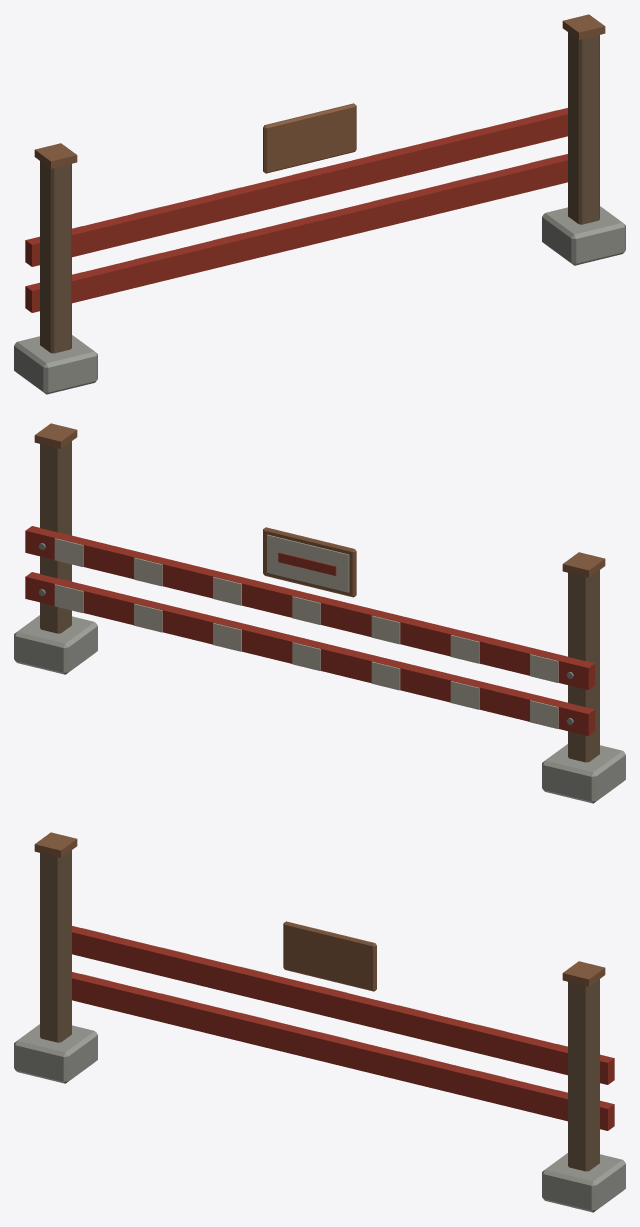
Rendered from roadblock.glb.
3 renders of one model, top to bottom at view 1: azimuth 30°, elevation 25°; view 2: azimuth 150°, elevation 25°; view 3: azimuth 330°, elevation 25°, orthographic.
Visible parts, largest first — view 1: roadblock_visual; view 2: roadblock_visual; view 3: roadblock_visual.
Part boxes in pixels (left/top/right/bottom): roadblock_visual: left=14, top=14, right=625, bottom=394; roadblock_visual: left=14, top=423, right=625, bottom=803; roadblock_visual: left=14, top=832, right=625, bottom=1212.
Bounding box in the file's own units: 6.62 × 2.45 × 0.65.
